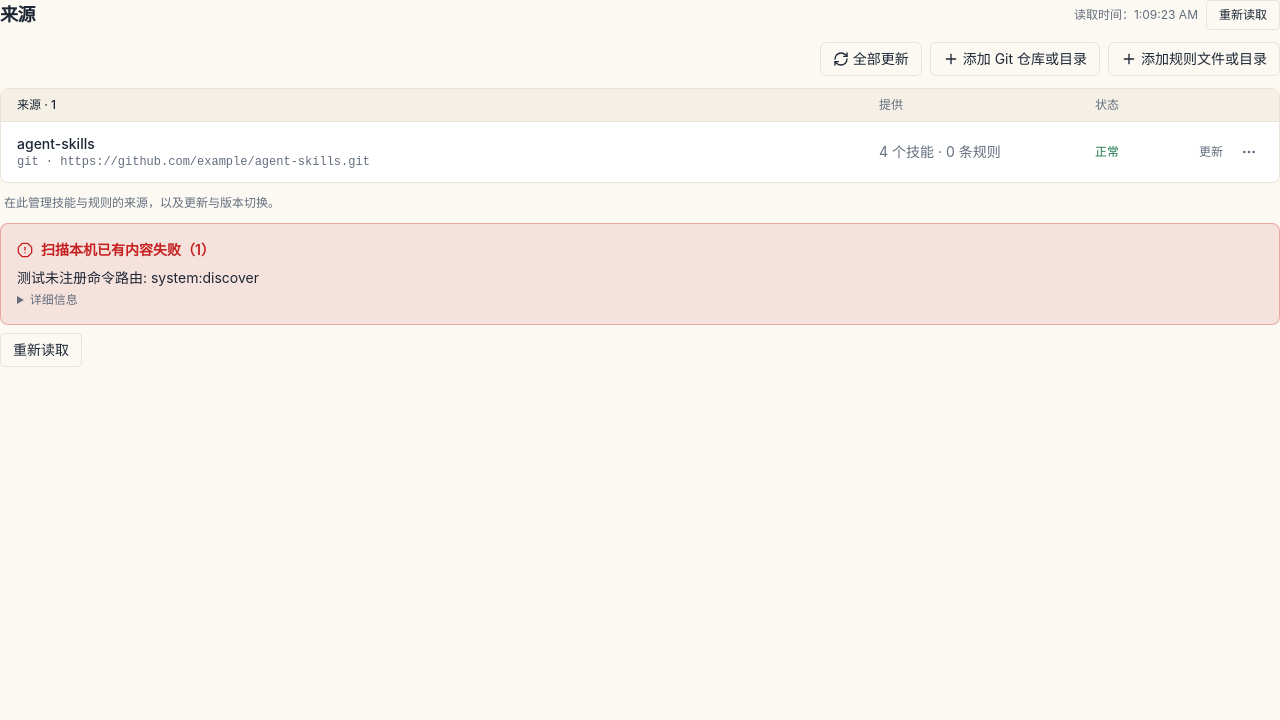
Test case: 来源页：添加、编辑、更新、移除 › 编辑集合（无 DB 旧存储）：迁移后仍取不到完整定义则停止保存，零写入
This screenshot has width=1280, height=720.
Click the button named "agent-skills 的更多操作".
click(1249, 152)  # box [1235, 138, 1263, 166]
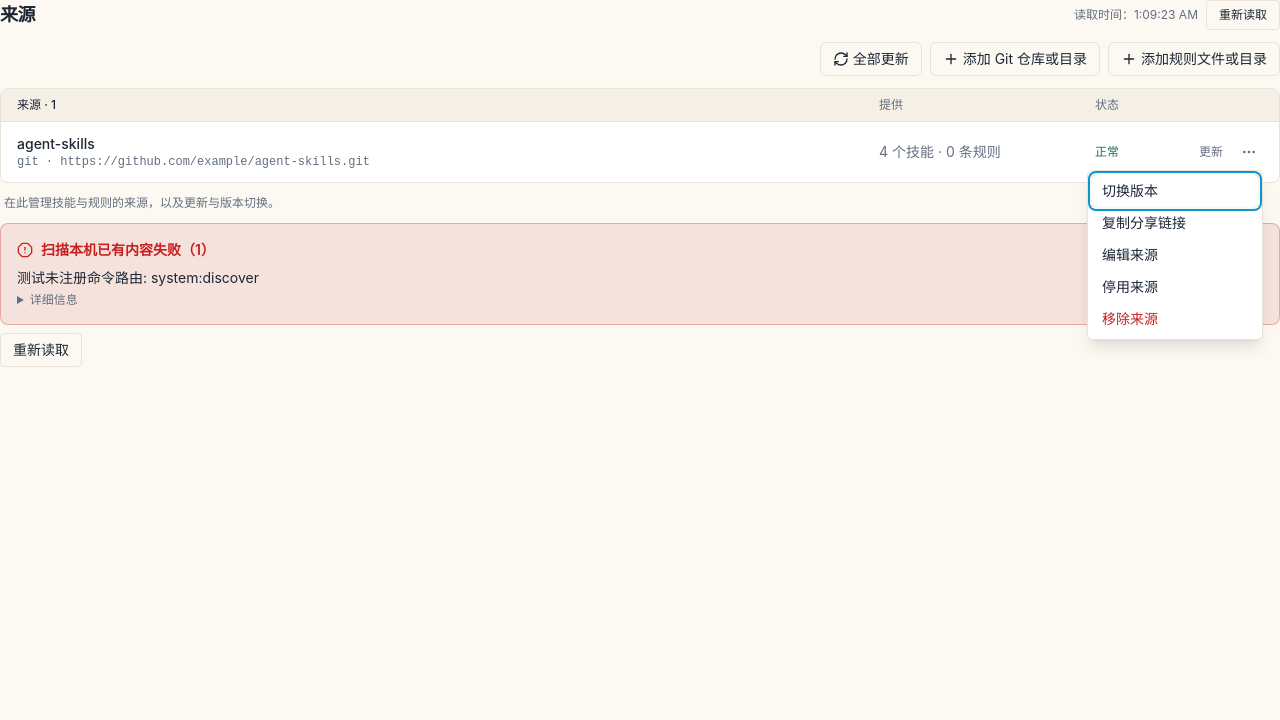
Click the menu item with test id "source-edit-agent-skills".
click(1175, 255)  # box [1092, 239, 1258, 271]
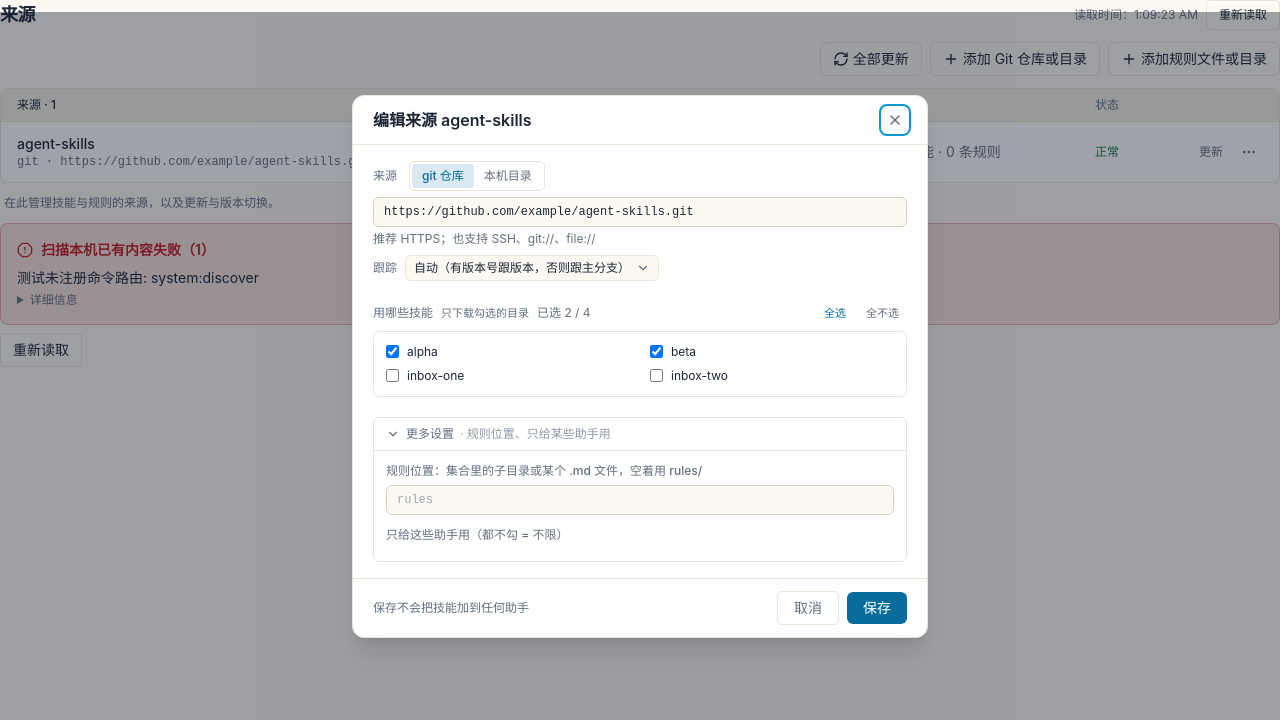
Click the button with test id "collection-form-submit".
click(877, 608)  # box [847, 592, 907, 624]
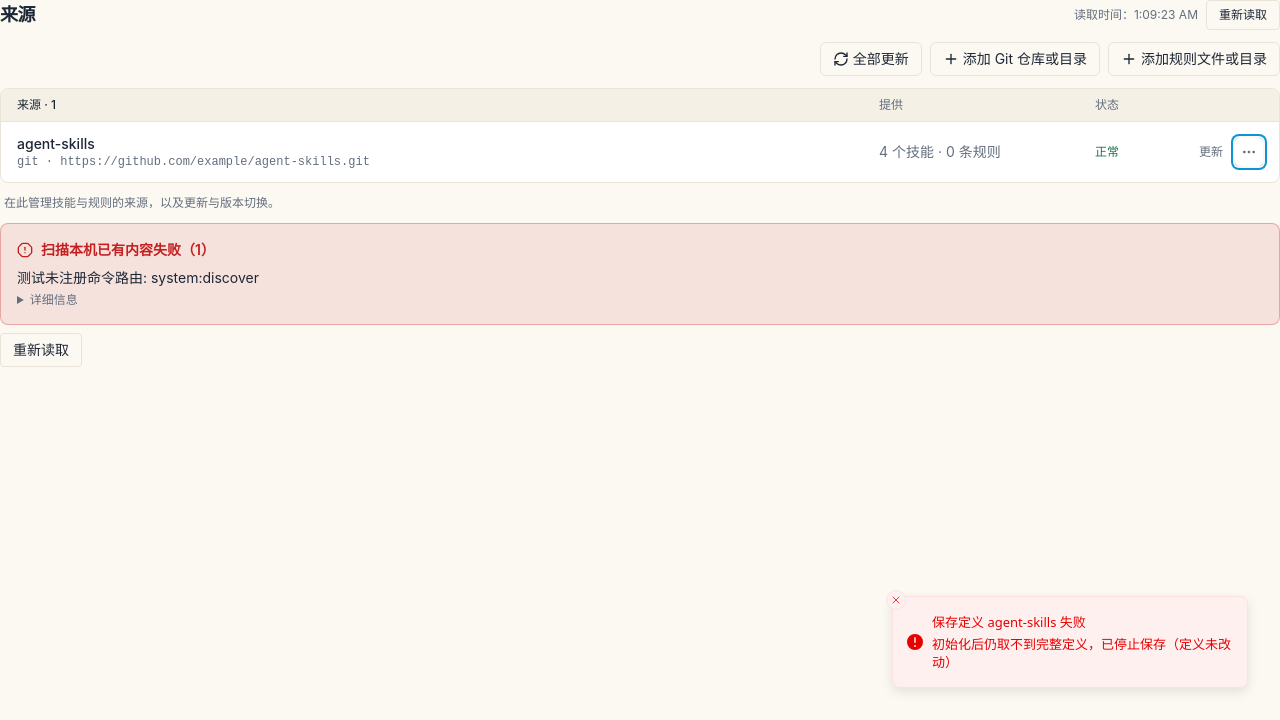
Now the text "初始化后仍取不到完整定义，已停止保存（定义未改动）" is shown, box [932, 635, 1231, 671]
